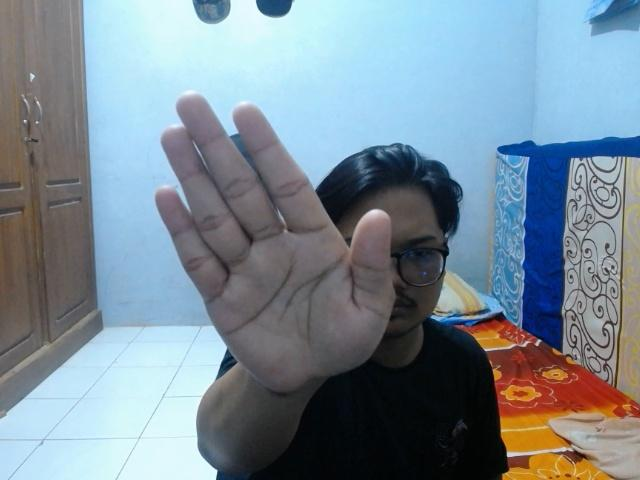Release: (147, 84, 401, 402)
